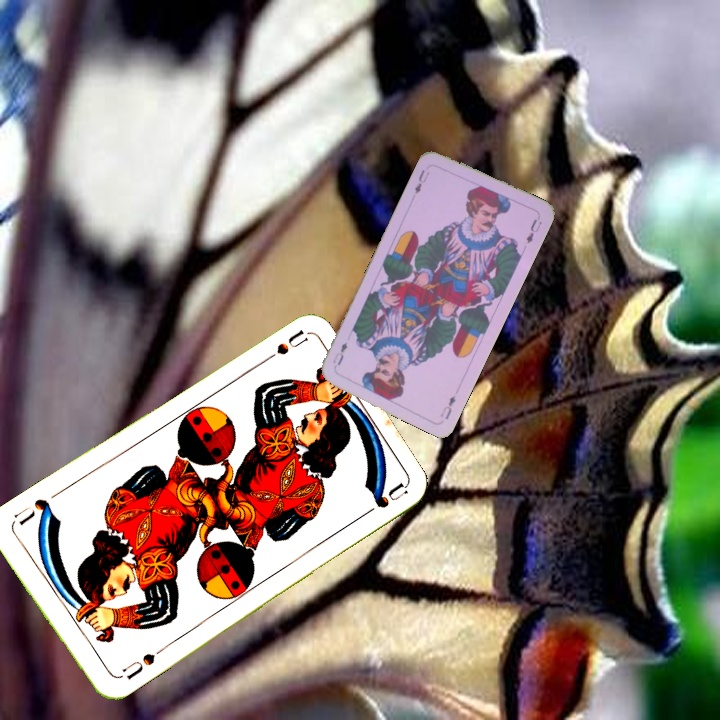EU: (436, 391, 458, 422), (410, 166, 432, 196)
SU: (254, 326, 309, 369), (117, 645, 165, 682)
